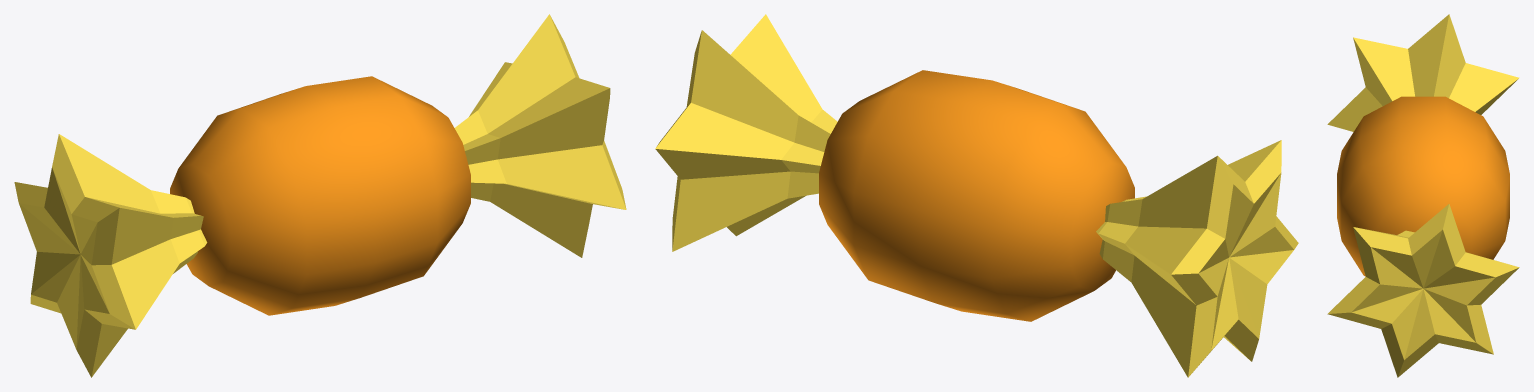
Rendered from WrappedCandy.fbx.
3 views of the same model, side by side, from view 1: azimuth 30°, elevation 25°; view 2: azimuth 150°, elevation 25°; view 3: azimuth 270°, elevation 25° (orthographic). The views are drawn at different scales.
Visible parts, largest first — view 1: WrappedCandy; view 2: WrappedCandy; view 3: WrappedCandy.
Part boxes in pixels (bbox=[...]): WrappedCandy: bbox=[14, 14, 626, 377]; WrappedCandy: bbox=[655, 14, 1298, 377]; WrappedCandy: bbox=[1327, 14, 1519, 377].
Size of the model in its own units: 0.094 by 0.0386 by 0.0386.
